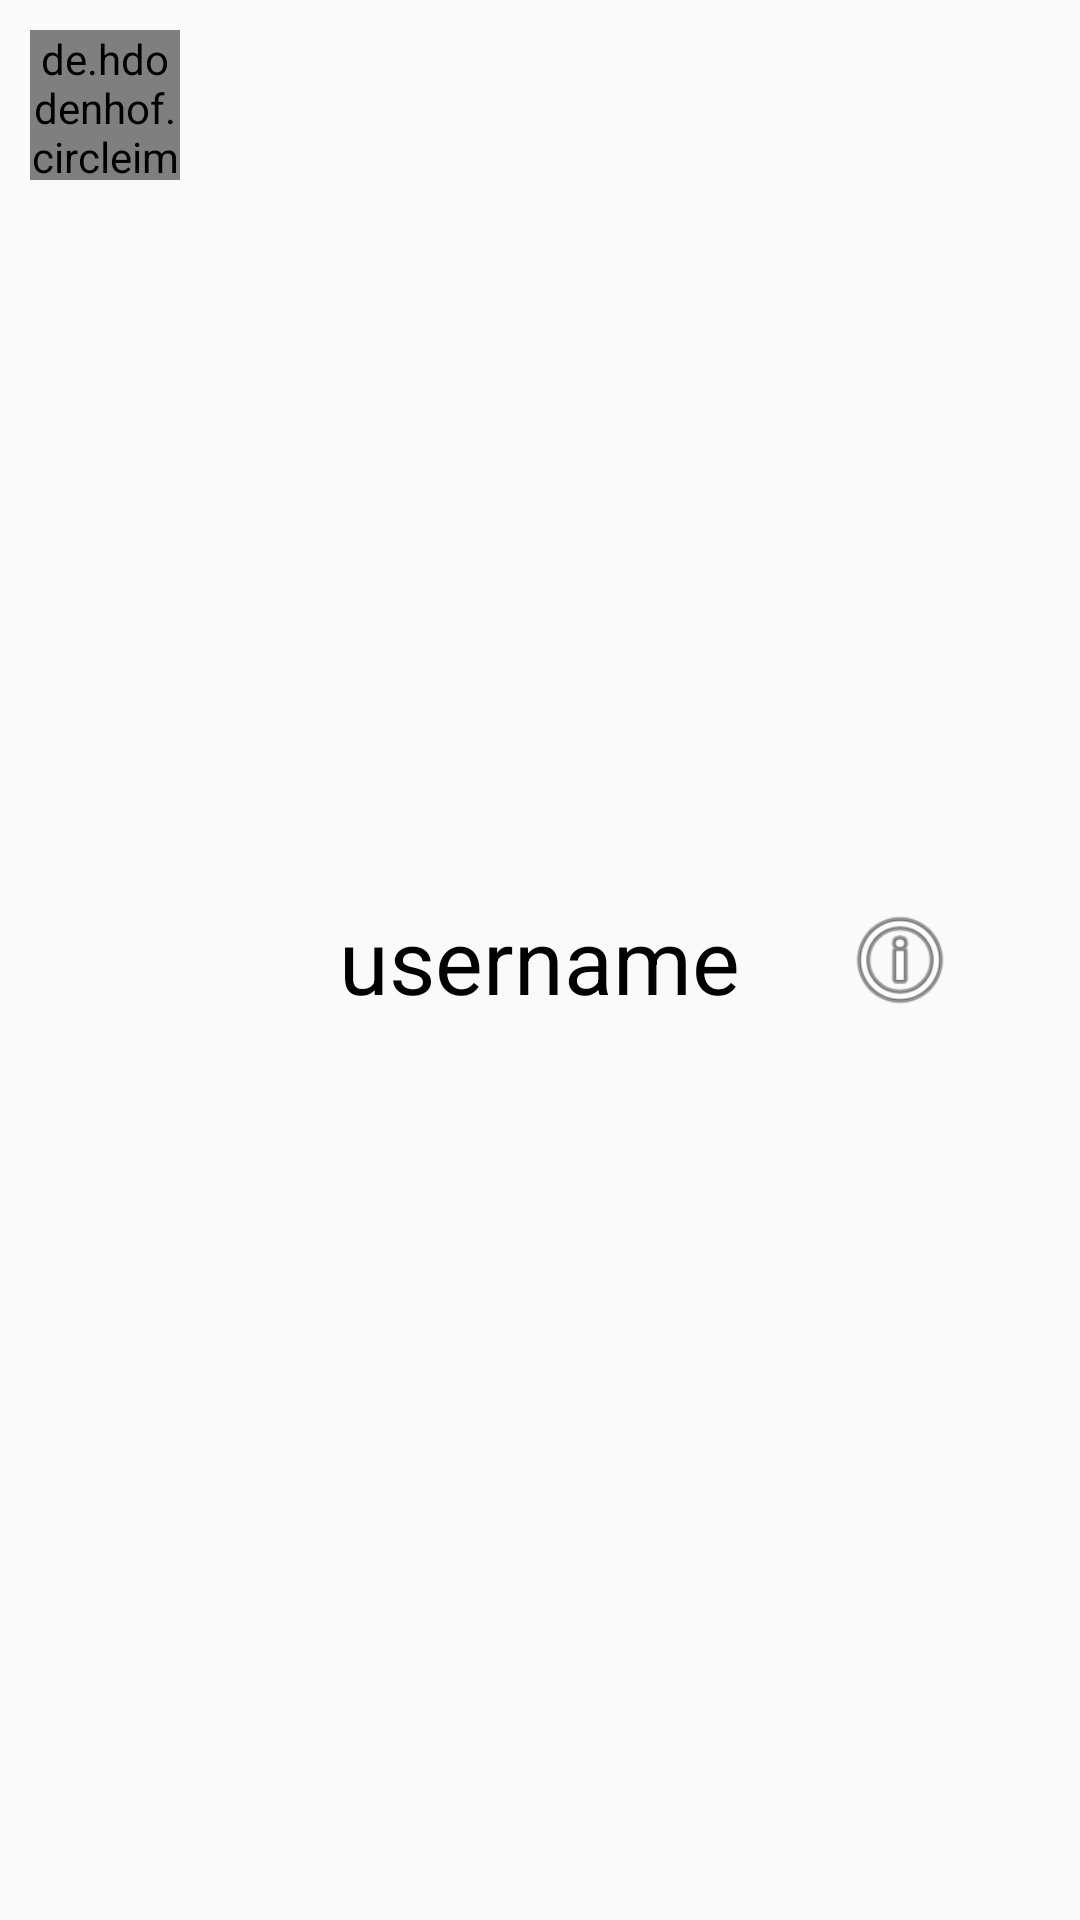

Screen size 1080px x 1920px. Icon name, then its box in pixels as detection(x1, y1, x2, y2):
info details: detection(857, 917, 943, 1003)
